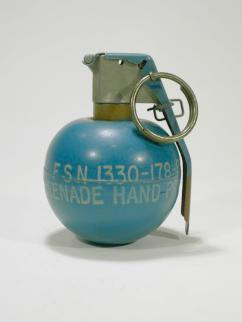Grenade: (41, 53, 198, 246)
